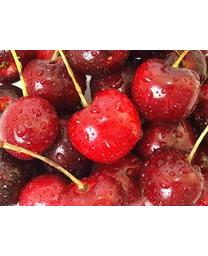cherry: (67, 89, 143, 165), (132, 58, 201, 124), (1, 96, 62, 161), (139, 146, 204, 205)
